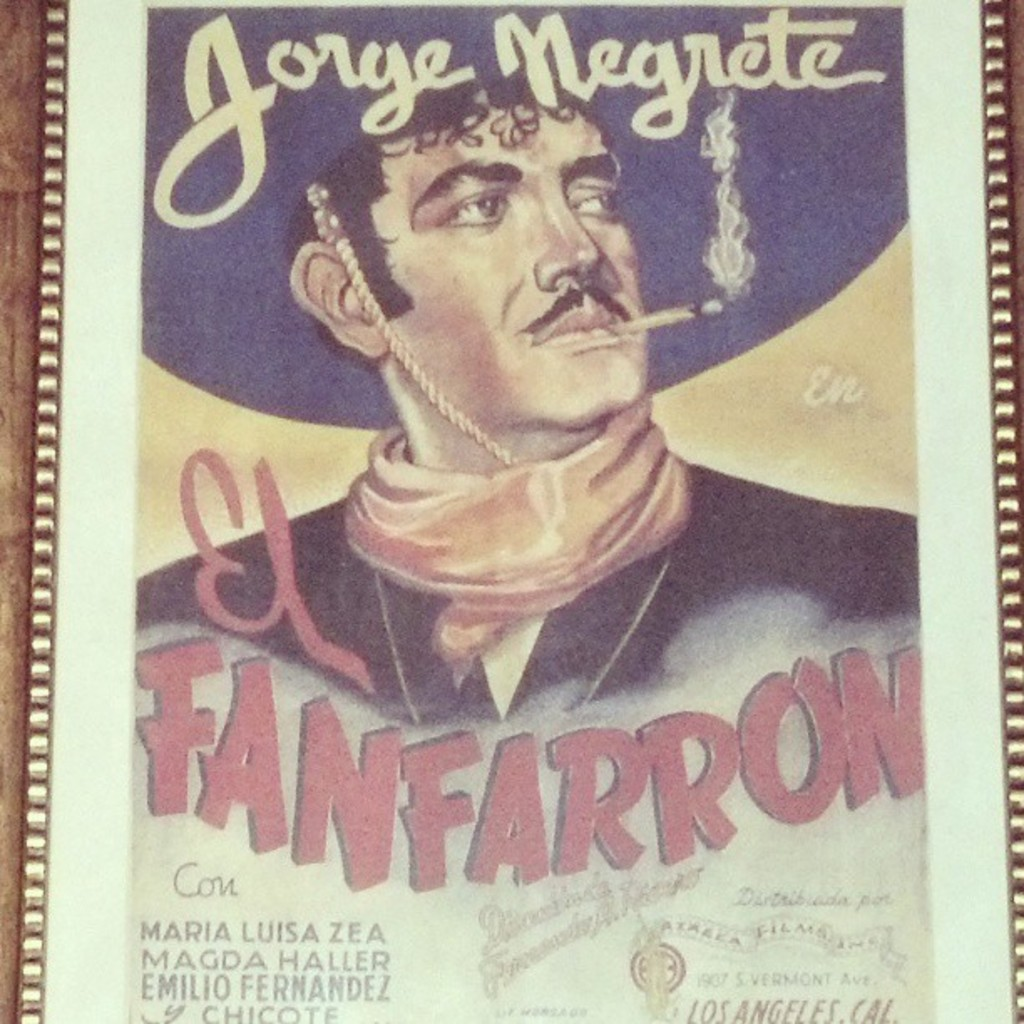Person: (140, 2, 924, 727)
